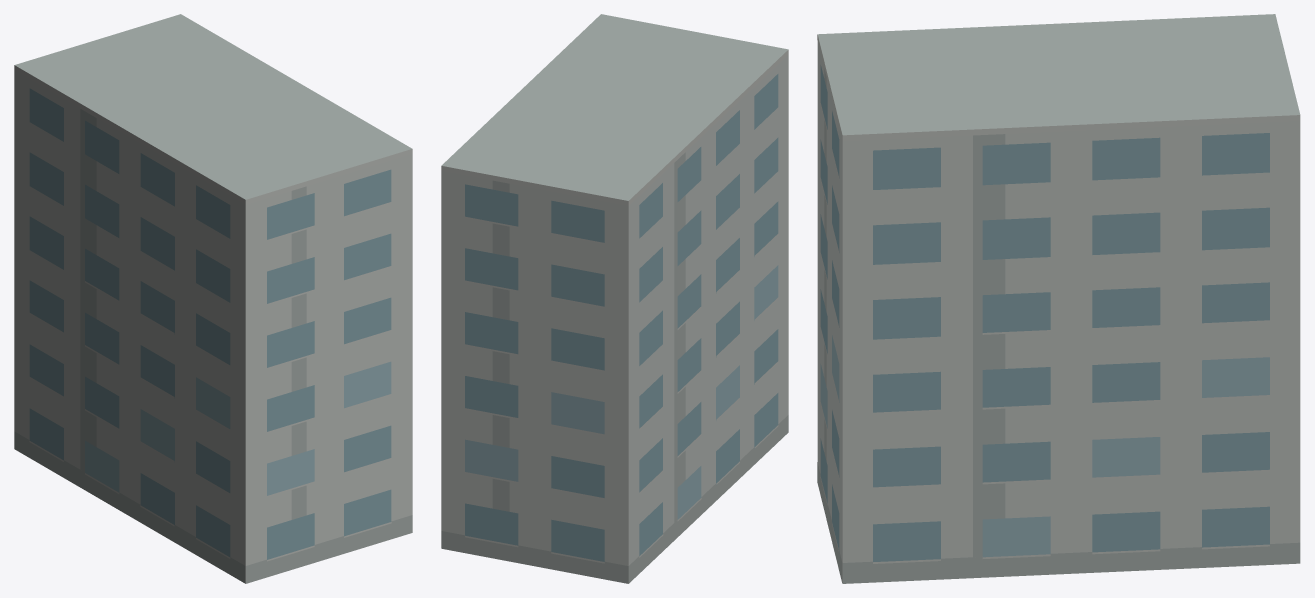
File: survey-upis-32563912.glb
3 renders of one model, left to right at view 1: azimuth 30°, elevation 25°; view 2: azimuth 150°, elevation 25°; view 3: azimuth 270°, elevation 25°, orthographic. The views are drawn at different scales.
Parts seen in each view (by area): view 1: survey-upis-32563912.tmp; view 2: survey-upis-32563912.tmp; view 3: survey-upis-32563912.tmp.
Part boxes in pixels (left/top/right/bottom): survey-upis-32563912.tmp: left=14, top=14, right=412, bottom=583; survey-upis-32563912.tmp: left=441, top=14, right=788, bottom=583; survey-upis-32563912.tmp: left=817, top=14, right=1300, bottom=583.
Bounding box in the file's own units: 10.62 × 18.3 × 17.86.
